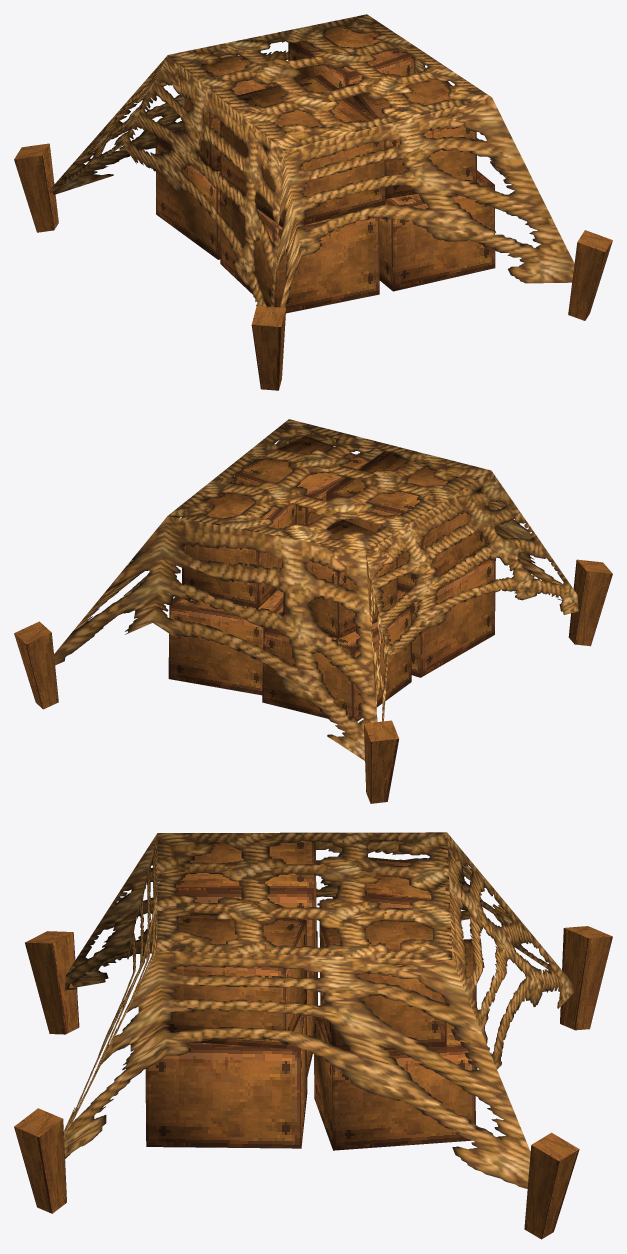
The model's file is deadminecargonetboxes.obj.
3 views of the same model, one above another, from view 1: azimuth 30°, elevation 25°; view 2: azimuth 150°, elevation 25°; view 3: azimuth 270°, elevation 25° (orthographic). The views are drawn at different scales.
Visible parts, largest first — view 1: Geoset1, Geoset0; view 2: Geoset1, Geoset0; view 3: Geoset1, Geoset0.
Part boxes in pixels (x1,y1,x2,y2): Geoset1: (50,14,574,307); Geoset0: (14,26,612,390); Geoset1: (54,419,578,760); Geoset0: (14,436,612,803); Geoset1: (63,832,574,1188); Geoset0: (14,840,612,1239).
Size of the model in its own units: 3.74 by 1.74 by 4.02.
Materials: 2 (2 with a texture image).
